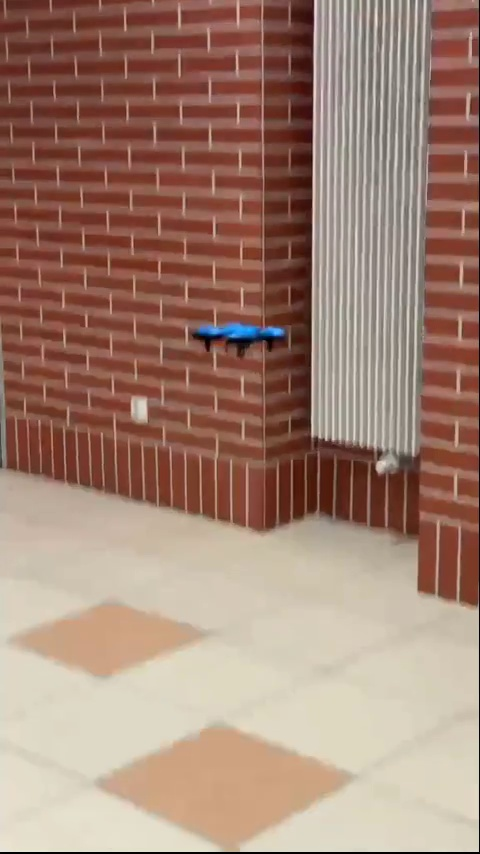drone: (194, 317, 286, 359)
